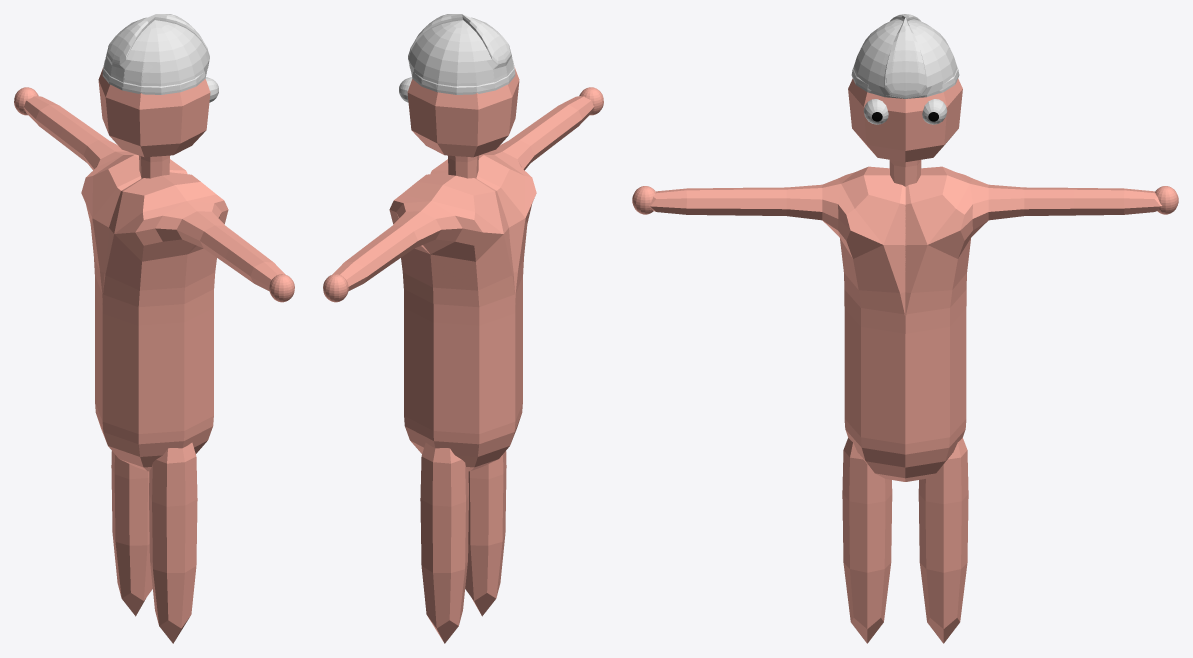
File: electricista v2.fbx
3 views of the same model, side by side, from view 1: azimuth 30°, elevation 25°; view 2: azimuth 150°, elevation 25°; view 3: azimuth 270°, elevation 25° (orthographic).
Parts seen in each view (by area): view 1: Cube, Cube.002, Cube.003, Cube.004; view 2: Cube, Cube.002, Cube.003, Cube.004; view 3: Cube, Cube.002, Cube.003, Cube.001, Cube.004.
Boxes of the visible parts, x1=… form: Cube: x1=24, y1=67, x2=285, y2=471; Cube.002: x1=111, y1=442, x2=197, y2=643; Cube.003: x1=102, y1=14, x2=209, y2=94; Cube.004: x1=14, y1=87, x2=294, y2=302; Cube: x1=332, y1=67, x2=593, y2=471; Cube.002: x1=420, y1=442, x2=506, y2=643; Cube.003: x1=408, y1=14, x2=515, y2=94; Cube.004: x1=323, y1=87, x2=603, y2=302; Cube: x1=649, y1=78, x2=1161, y2=481; Cube.002: x1=842, y1=438, x2=968, y2=643; Cube.003: x1=851, y1=14, x2=959, y2=98; Cube.001: x1=863, y1=99, x2=947, y2=124; Cube.004: x1=632, y1=186, x2=1178, y2=214.
Bounding box in the file's own units: 183 × 1040 × 821.
